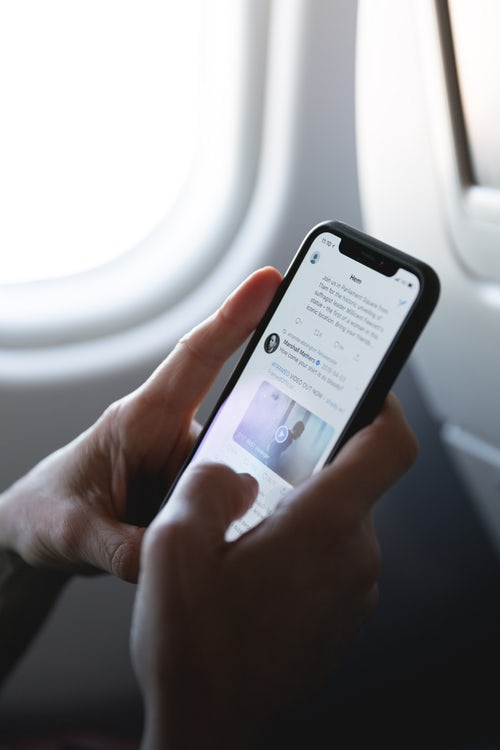phone: (160, 220, 437, 570)
